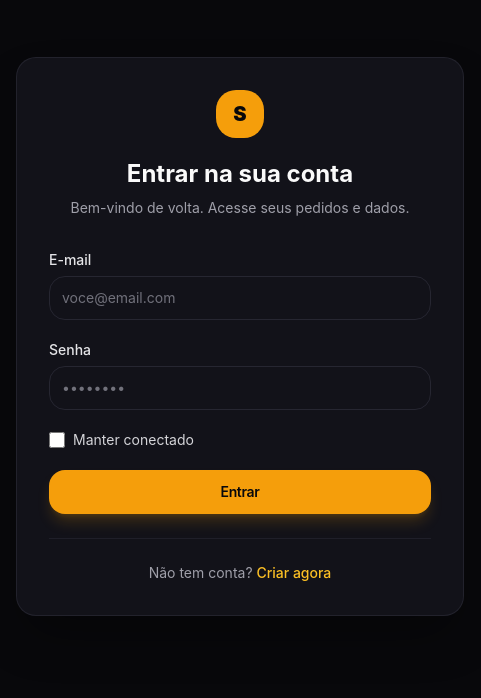
LoginPage › shows an authentication error and has no password recovery action
In the field labelled "E-mail": (240, 298) [49,276,431,320], type "cliente@exemplo.com"
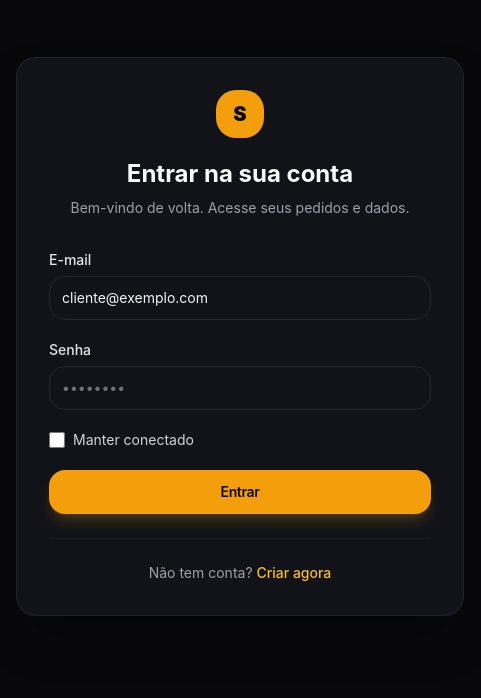
In the password field labelled "Senha": (240, 388) [49,366,431,410], type "senha-incorreta"
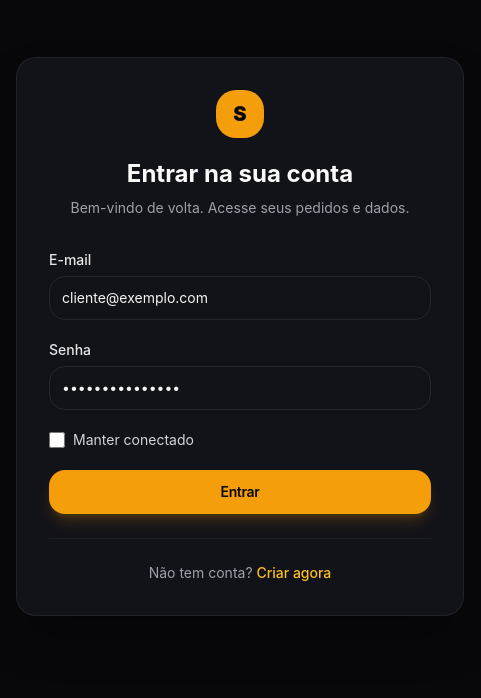
Click the button "Entrar": (240, 492) [49,470,431,514]
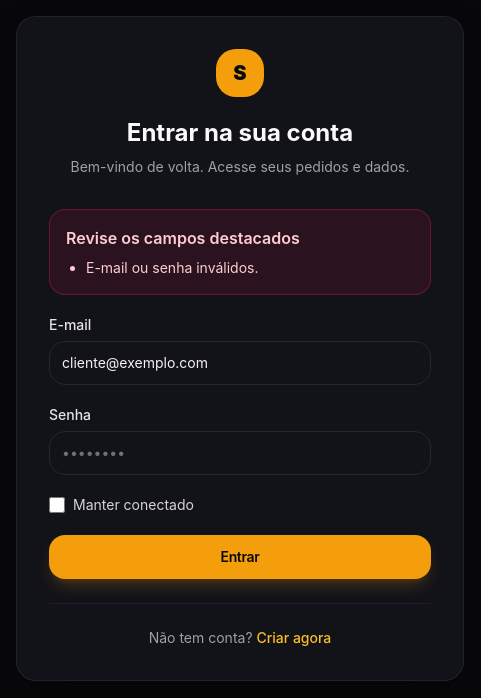
Expected: the list item "E-mail ou senha inválidos." is shown, [86,259,258,276]
Expected: the password field labelled "Senha" is empty, [49,431,431,475]
